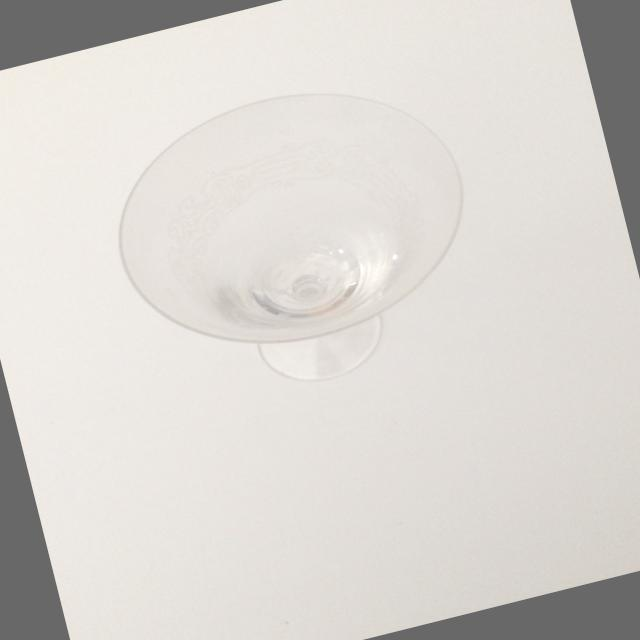Glass: (74, 49, 511, 432)
